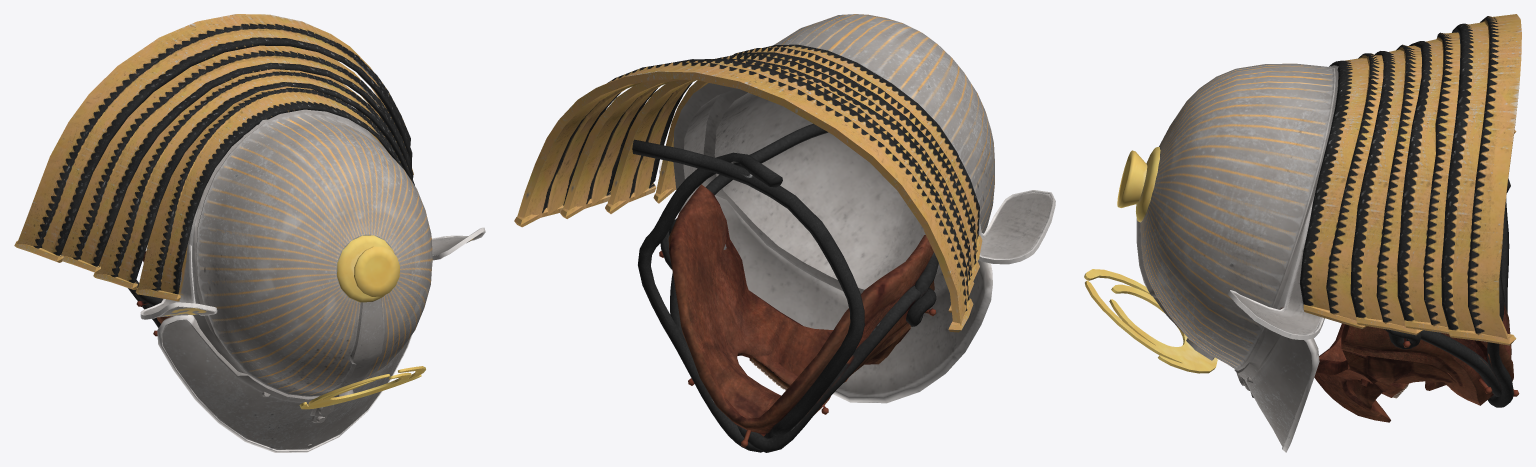
The model's file is kabuto.gltf.
The picture shows the model from 3 angles, left to right: view 1: azimuth 30°, elevation 25°; view 2: azimuth 150°, elevation 25°; view 3: azimuth 270°, elevation 25°; orthographic projection. The views are drawn at different scales.
Visible parts, largest first — view 1: Helmet; view 2: Helmet; view 3: Helmet.
Boxes of the visible parts, left/top/right/bottom form: Helmet: left=14, top=14, right=485, bottom=452; Helmet: left=514, top=14, right=1055, bottom=452; Helmet: left=1084, top=14, right=1521, bottom=452.
Bounding box in the file's own units: 51.84 × 45.41 × 44.32.
Materials: 1 (1 with a texture image).
